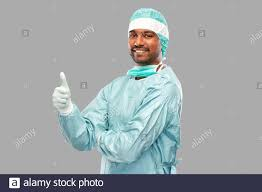Indian_Male: (125, 15, 159, 57)
